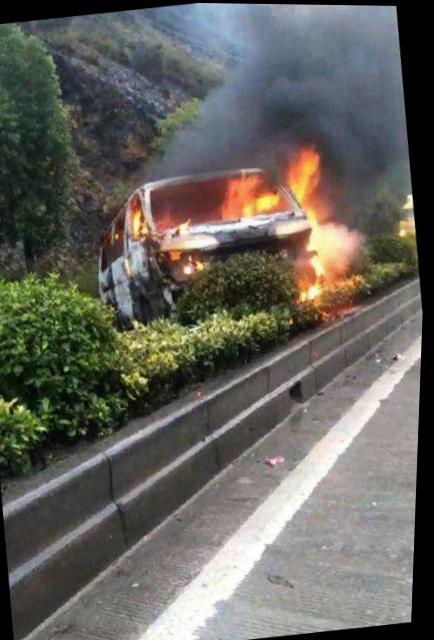fire: (129, 136, 371, 329)
